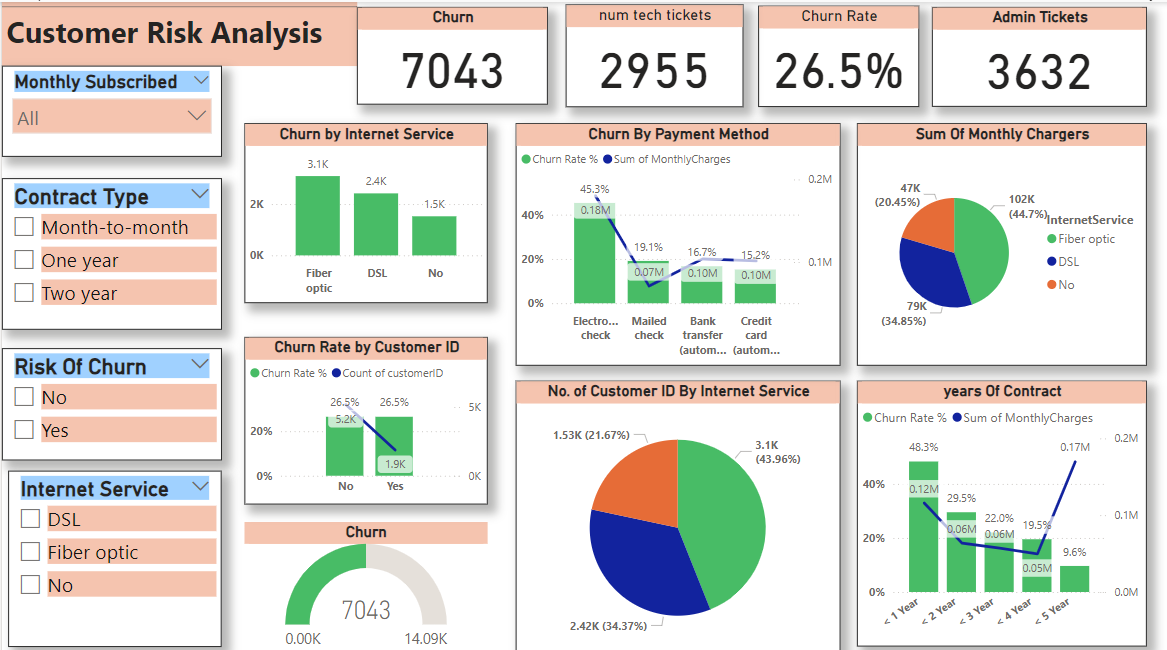

This screenshot's page, from the dashboard's own definition file:
{"tool":"powerbi","page":{"name":"customer risk analysis","canvas":[1280,720],"ordinal":2},"visuals":[{"type":"textbox","box":[0,0,390.1,70.1],"z":0},{"type":"slicer","fields":{"Values":["01 Churn-Dataset.Churn"]},"box":[0,380.1,241.5,123.5],"z":1000},{"type":"slicer","fields":{"Values":["01 Churn-Dataset.InternetService"]},"box":[6.9,514.6,234.6,193.5],"z":2000},{"type":"slicer","fields":{"Values":["01 Churn-Dataset.tenure"]},"box":[0,70,241.5,100.2],"z":3000},{"type":"slicer","fields":{"Values":["01 Churn-Dataset.Contract"]},"box":[0,193.5,241.5,166],"z":4000},{"type":"card","title":"Churn","fields":{"Values":["CountNonNull(01 Churn-Dataset.Churn)"]},"box":[389.7,5.5,209.9,107],"z":5000},{"type":"card","title":"Churn Rate","fields":{"Values":["01 Churn-Dataset.Churn Rate %"]},"box":[831.6,4.1,177,111.1],"z":6000},{"type":"gauge","title":"Churn","fields":{"Y":["CountNonNull(01 Churn-Dataset.customerID)"]},"box":[266.2,570.8,267.6,149.6],"z":7000},{"type":"card","title":"Admin Tickets","fields":{"Values":["Sum(01 Churn-Dataset.numAdminTickets)"]},"box":[1022.3,5.5,236,109.8],"z":8000},{"type":"card","title":"num tech tickets ","fields":{"Values":["Sum(01 Churn-Dataset.numTechTickets)"]},"box":[618.9,2.7,194.9,112.5],"z":9000},{"type":"clusteredColumnChart","title":"Churn by Internet Service ","fields":{"Category":["01 Churn-Dataset.InternetService"],"Y":["CountNonNull(01 Churn-Dataset.Churn)"]},"box":[266.2,133.1,267.6,197.6],"z":9001},{"type":"pieChart","title":"No. of Customer ID By Internet Service","fields":{"Y":["CountNonNull(01 Churn-Dataset.customerID)"],"Category":["01 Churn-Dataset.InternetService"]},"box":[564,415.8,356.8,304.6],"z":9002},{"type":"pieChart","title":"Sum Of Monthly Chargers","fields":{"Category":["01 Churn-Dataset.InternetService"],"Y":["Sum(01 Churn-Dataset.tenure)"]},"box":[940,133.1,318.4,266.2],"z":9003},{"type":"lineStackedColumnComboChart","title":"Churn Rate by Customer ID ","fields":{"Y":["01 Churn-Dataset.Churn Rate %"],"Category":["01 Churn-Dataset.Churn"],"Y2":["CountNonNull(01 Churn-Dataset.customerID)"]},"box":[266.2,367.8,267.6,183.9],"z":9004},{"type":"lineStackedColumnComboChart","title":"years Of Contract ","fields":{"Y":["01 Churn-Dataset.Churn Rate %"],"Category":["01 Churn-Dataset.Subscription"],"Y2":["Sum(01 Churn-Dataset.MonthlyCharges)"]},"box":[940,415.8,318.4,292.3],"z":9005},{"type":"lineStackedColumnComboChart","title":"Churn By Payment Method","fields":{"Y":["01 Churn-Dataset.Churn Rate %"],"Y2":["Sum(01 Churn-Dataset.MonthlyCharges)"],"Category":["01 Churn-Dataset.PaymentMethod"]},"box":[564,133.1,356.8,266.2],"z":9006}]}

Visuals, with their boxes in screenshot pixels (x1, y1, x2, y2), scaled from the page's 1280x720 canvas onto the 1167x650 screenshot:
textbox: crop(0, 0, 356, 63)
slicer - 01 Churn-Dataset.Churn: crop(0, 343, 220, 455)
slicer - 01 Churn-Dataset.InternetService: crop(6, 465, 220, 639)
slicer - 01 Churn-Dataset.tenure: crop(0, 63, 220, 154)
slicer - 01 Churn-Dataset.Contract: crop(0, 175, 220, 325)
"Churn" card: crop(355, 5, 547, 102)
"Churn Rate" card: crop(758, 4, 920, 104)
"Churn" gauge: crop(243, 515, 487, 649)
"Admin Tickets" card: crop(932, 5, 1147, 104)
"num tech tickets " card: crop(564, 2, 742, 104)
"Churn by Internet Service " clusteredColumnChart: crop(243, 120, 487, 299)
"No. of Customer ID By Internet Service" pieChart: crop(514, 375, 840, 649)
"Sum Of Monthly Chargers" pieChart: crop(857, 120, 1147, 360)
"Churn Rate by Customer ID " lineStackedColumnComboChart: crop(243, 332, 487, 498)
"years Of Contract " lineStackedColumnComboChart: crop(857, 375, 1147, 639)
"Churn By Payment Method" lineStackedColumnComboChart: crop(514, 120, 840, 360)
